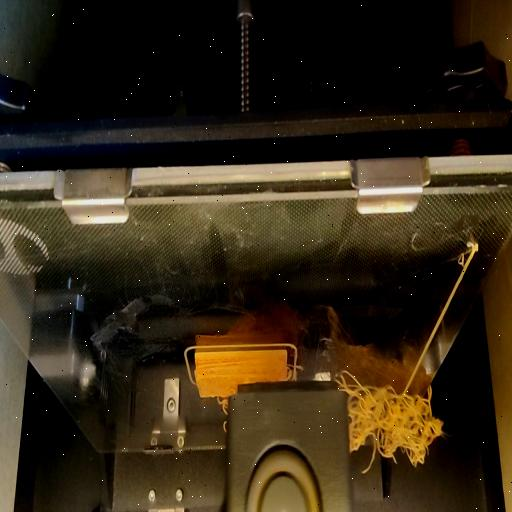spaghetti: (348, 372, 446, 474)
